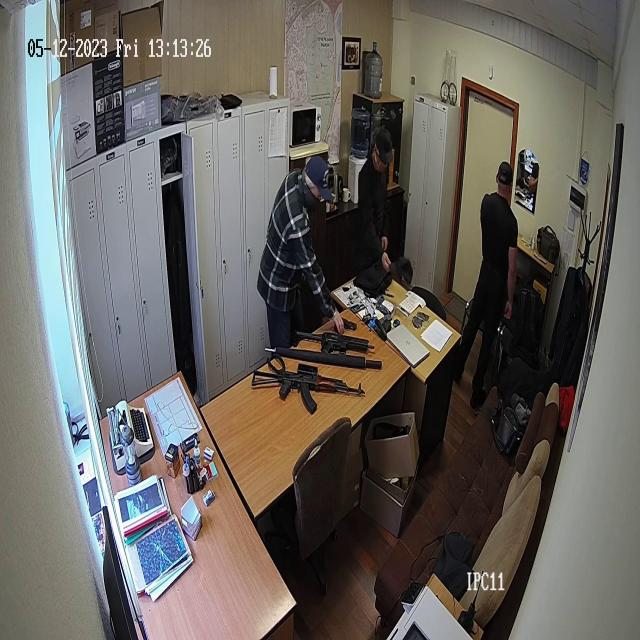gun: (259, 156, 369, 351), (475, 160, 522, 389), (357, 134, 400, 258), (251, 368, 365, 413), (293, 328, 375, 356), (343, 318, 358, 332)
